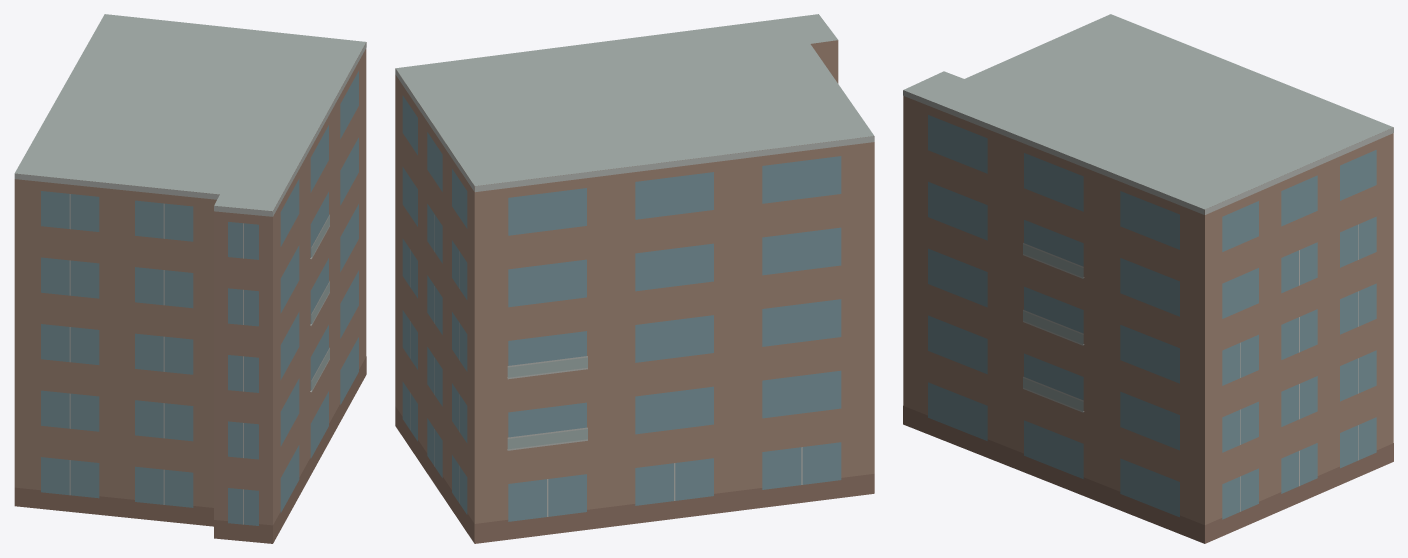
File: survey-upis-32845294.glb
3 views of the same model, side by side, from view 1: azimuth 30°, elevation 25°; view 2: azimuth 150°, elevation 25°; view 3: azimuth 270°, elevation 25° (orthographic). The views are drawn at different scales.
Parts seen in each view (by area): view 1: survey-upis-32845294.tmp; view 2: survey-upis-32845294.tmp; view 3: survey-upis-32845294.tmp.
Part boxes in pixels (x1,y1,x2,y2): survey-upis-32845294.tmp: (14,14,366,543); survey-upis-32845294.tmp: (395,14,874,543); survey-upis-32845294.tmp: (903,14,1393,543).
Size of the model in its own units: 18.13 by 14.45 by 19.23.
